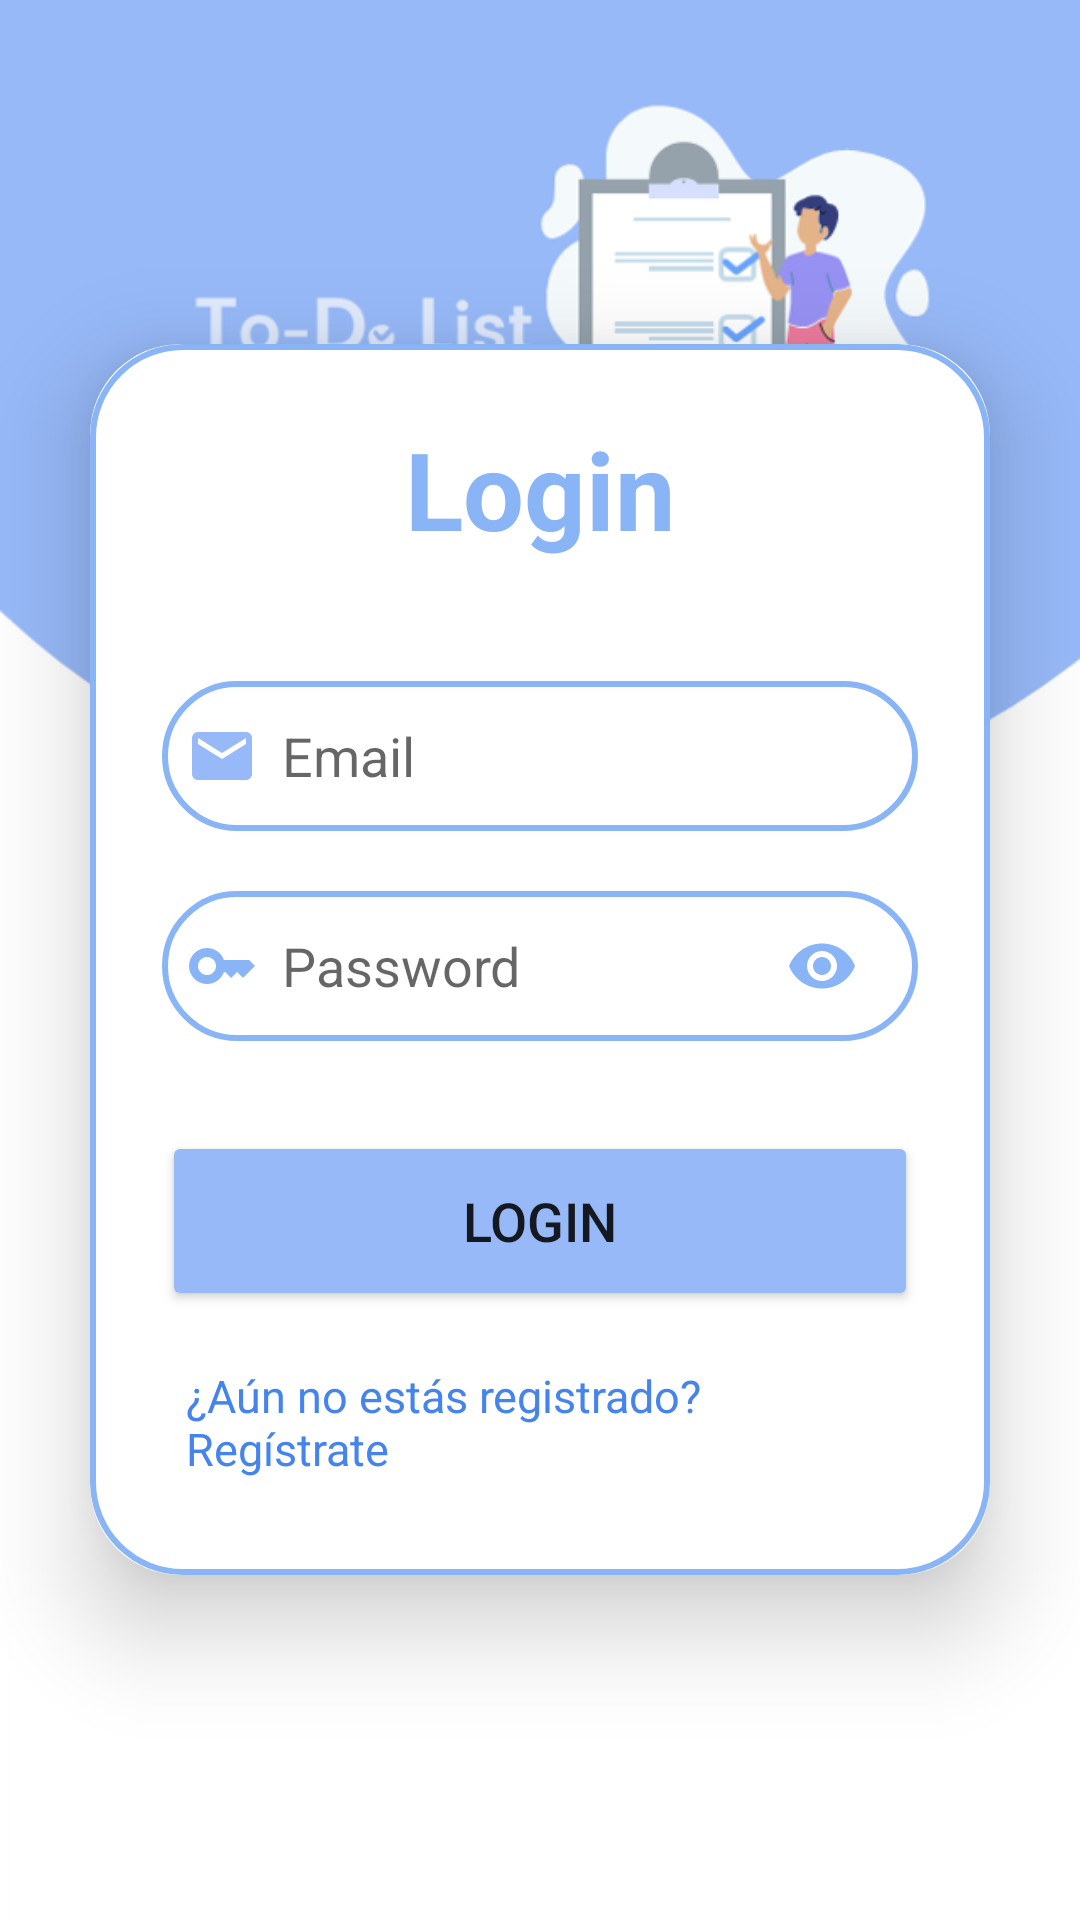

Locate icon controls on the screen. Image size 1080px x 1920px, boxes as (x1=x1, y1=y1, x2=x2, y2=y2).
eye: (x1=789, y1=943, x2=855, y2=989)
